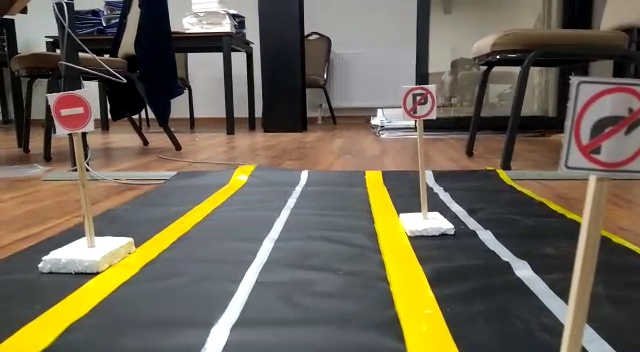girisi_olmayan_yol: (52, 91, 95, 135)
park_yapilmaz: (402, 84, 435, 121)
saga_donulmez: (572, 76, 640, 175)
